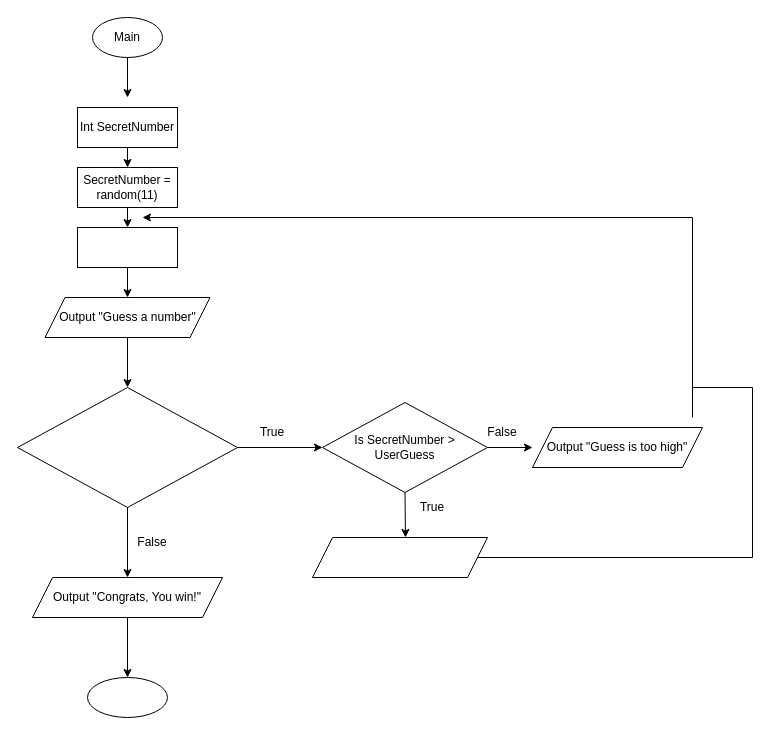
Image size: 771x735. Some labels were removed from this diagram. Here are the shapes that lost their labels. From the top down, the centre of each, then its label:
pixel 127 247: Int UserGuess
pixel 127 447: UserGuess != Secret number
pixel 400 557: Output "Guess is too low"
pixel 127 697: End
